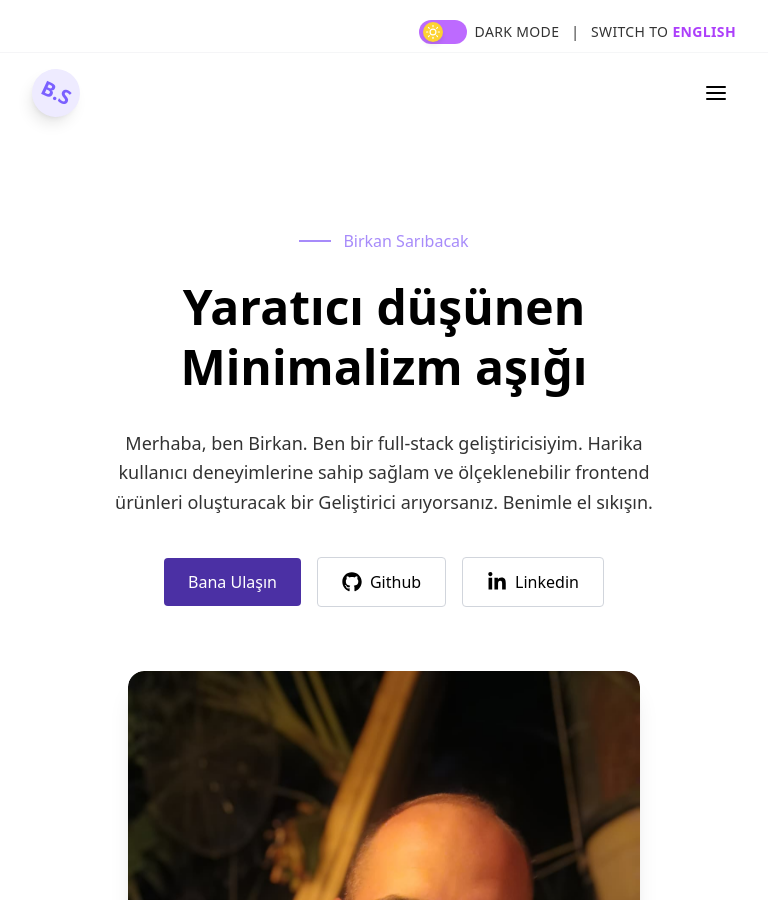
Header ve Uygulama Fonksiyonları Testi › Mobil menü açma/kapama işlevini test eder (Küçük Ekran Simülasyonu)
Hamburger menü butonunu bul ve tıkla
Click the button named "Menüyü Aç" at (716, 93), box [696,73,736,113]
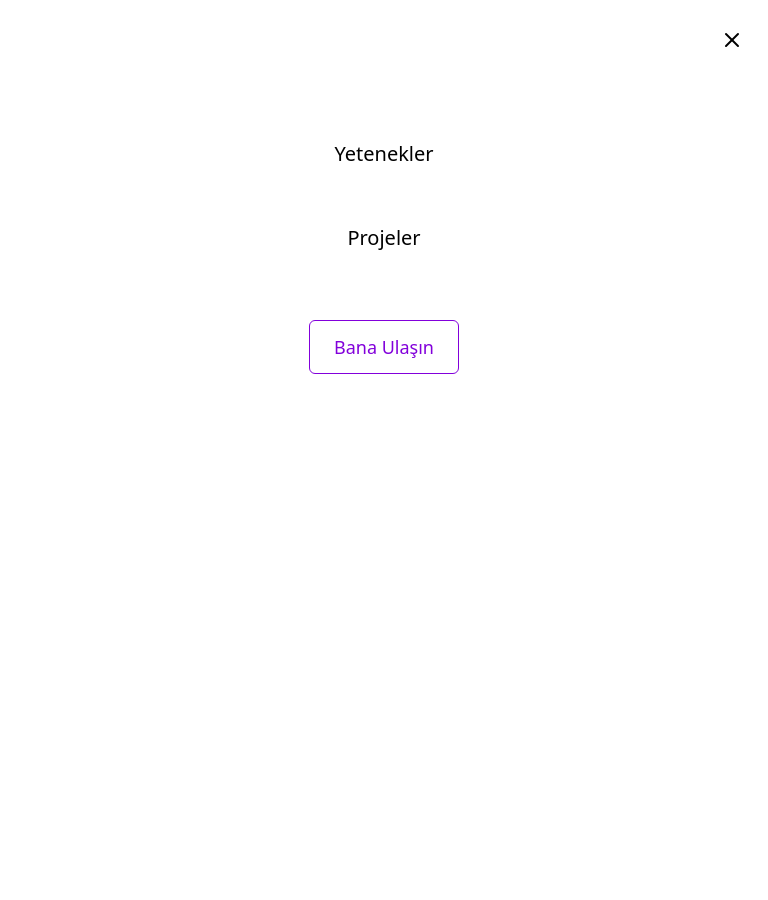
Expected: the element with class "z-50" is shown
Menüdeki linke tıkla
Click the link to "#projects" at (384, 238), box [347,224,420,251]
(page scrolled)
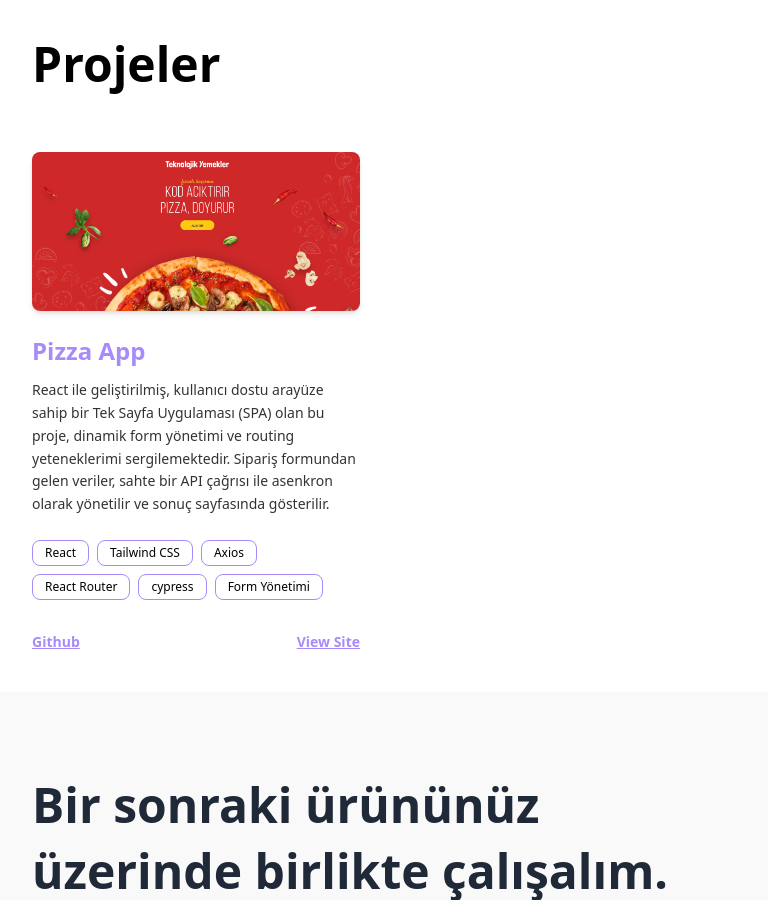
Expected: the element with class "z-50" is gone
